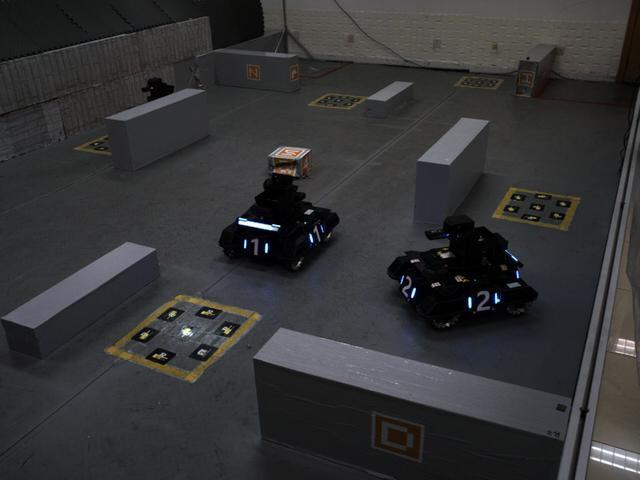armor: (458, 288, 507, 316), (234, 234, 274, 263), (392, 267, 418, 305), (303, 222, 328, 250)
